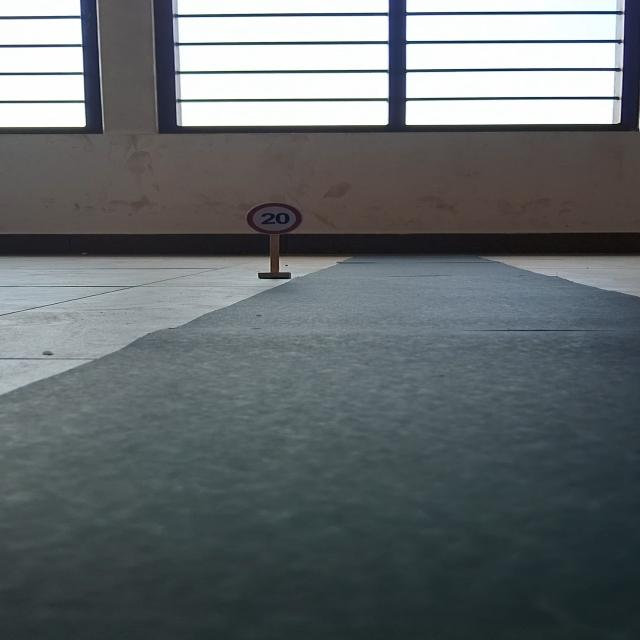Speed20: (237, 198, 309, 238)
